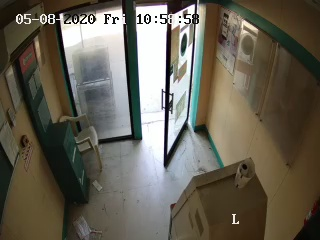open: (119, 3, 201, 172)
